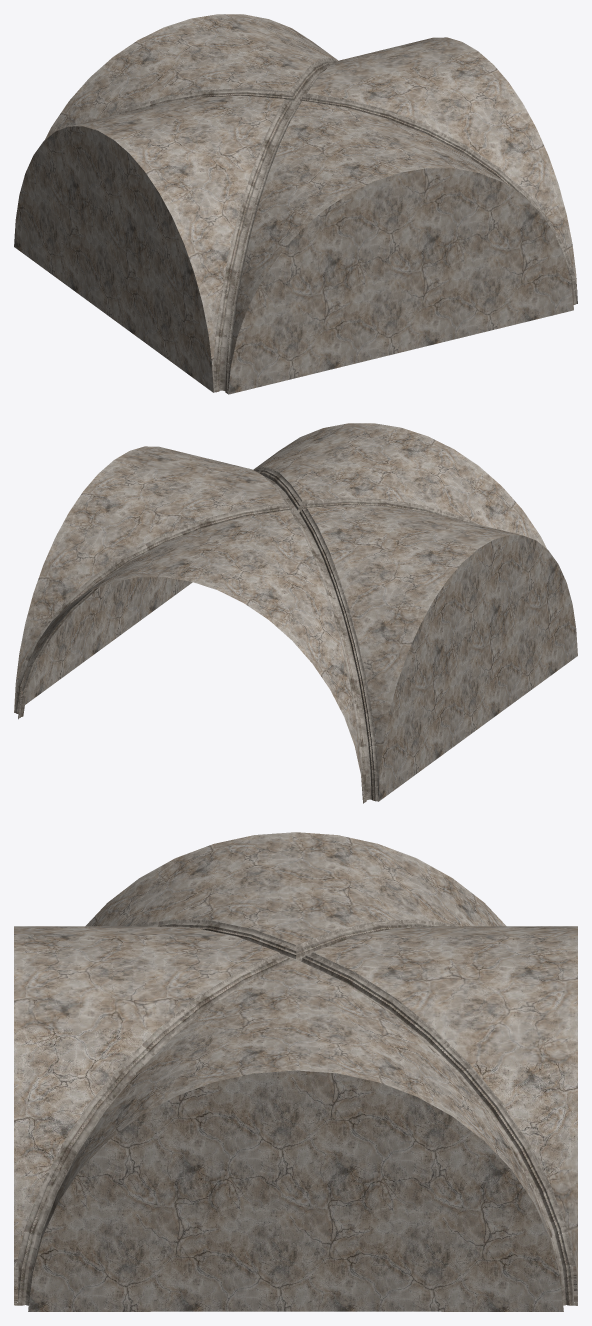
3 views of the same model, one above another, from view 1: azimuth 30°, elevation 25°; view 2: azimuth 150°, elevation 25°; view 3: azimuth 270°, elevation 25° (orthographic). The views are drawn at different scales.
Parts seen in each view (by area): view 1: SM_Ceiling02c_v2_LOD0; view 2: SM_Ceiling02c_v2_LOD0; view 3: SM_Ceiling02c_v2_LOD0.
Boxes of the visible parts, box(x1,y1,x2,y2) form: SM_Ceiling02c_v2_LOD0: box(14, 14, 577, 394); SM_Ceiling02c_v2_LOD0: box(14, 423, 577, 803); SM_Ceiling02c_v2_LOD0: box(14, 832, 577, 1311).
Bounding box in the file's own units: 8 × 3.78 × 8.
2 materials, 2 textured.
